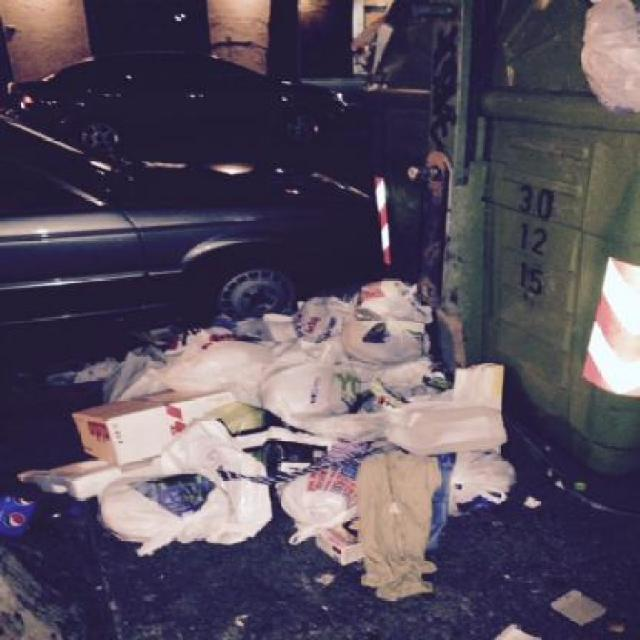garbage: (45, 297, 505, 580)
